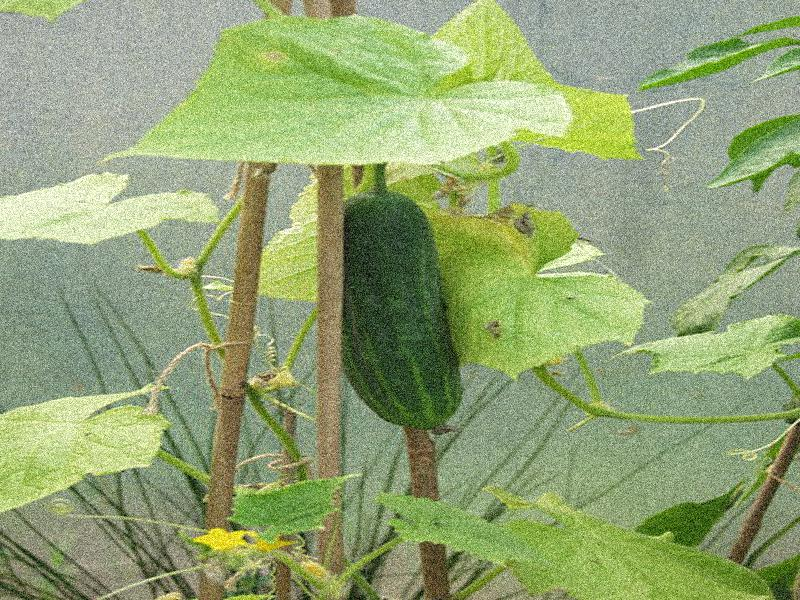Cucumber: (340, 191, 464, 433)
